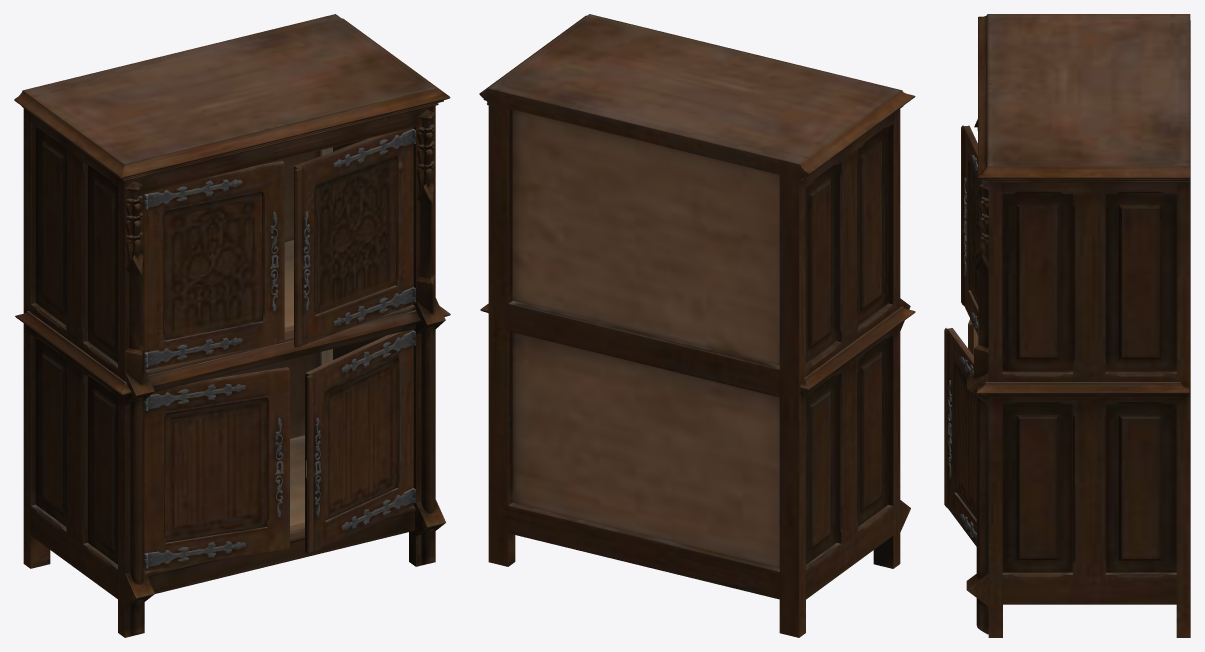
Rendered from cc0_cabinet.glb.
3 renders of one model, left to right at view 1: azimuth 30°, elevation 25°; view 2: azimuth 150°, elevation 25°; view 3: azimuth 270°, elevation 25°, orthographic.
Visible parts, largest first — view 1: GothicCabinet_01_cabinet; view 2: GothicCabinet_01_cabinet; view 3: GothicCabinet_01_cabinet.
Part boxes in pixels (left/top/right/bottom): GothicCabinet_01_cabinet: left=14, top=14, right=450, bottom=637; GothicCabinet_01_cabinet: left=479, top=14, right=915, bottom=637; GothicCabinet_01_cabinet: left=944, top=14, right=1190, bottom=637.
Bounding box in the file's own units: 1.72 × 2.36 × 1.12.
1 material, 1 textured.
